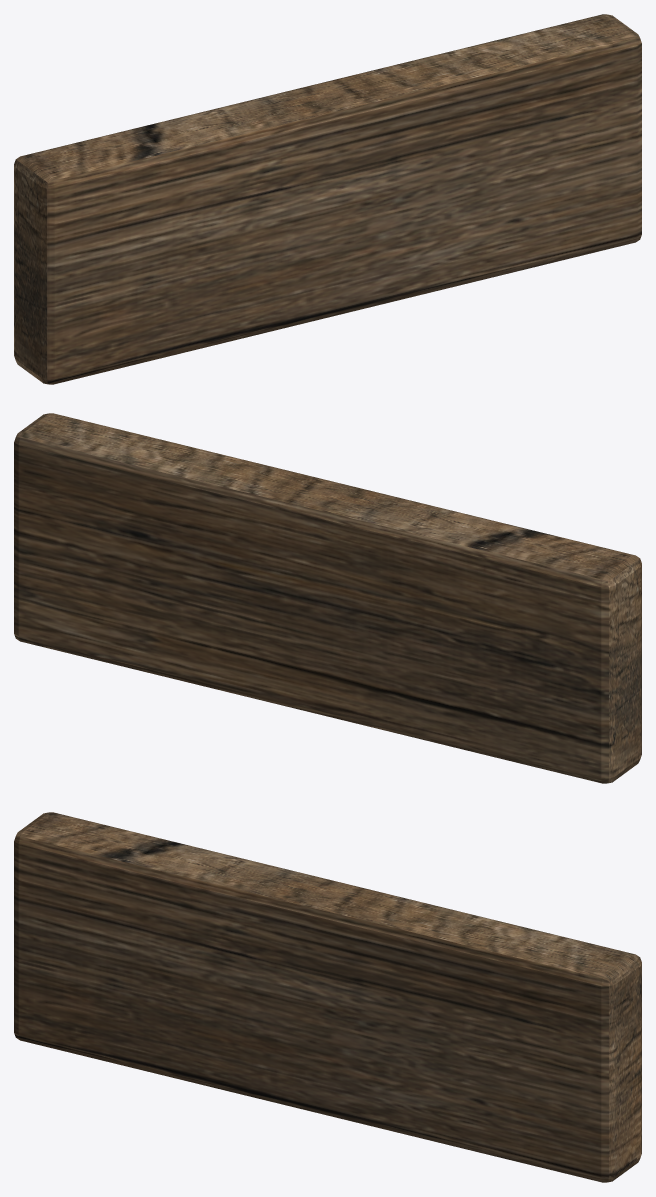
File: cover.glb
3 views of the same model, one above another, from view 1: azimuth 30°, elevation 25°; view 2: azimuth 150°, elevation 25°; view 3: azimuth 330°, elevation 25° (orthographic).
Visible parts, largest first — view 1: Ant cover; view 2: Ant cover; view 3: Ant cover.
Boxes of the visible parts, x1=… form: Ant cover: x1=14, y1=14, x2=641, y2=384; Ant cover: x1=14, y1=413, x2=641, y2=783; Ant cover: x1=14, y1=812, x2=641, y2=1182.
Size of the model in its own units: 2.4 by 0.8 by 0.25.
Materials: 1 (1 with a texture image).
